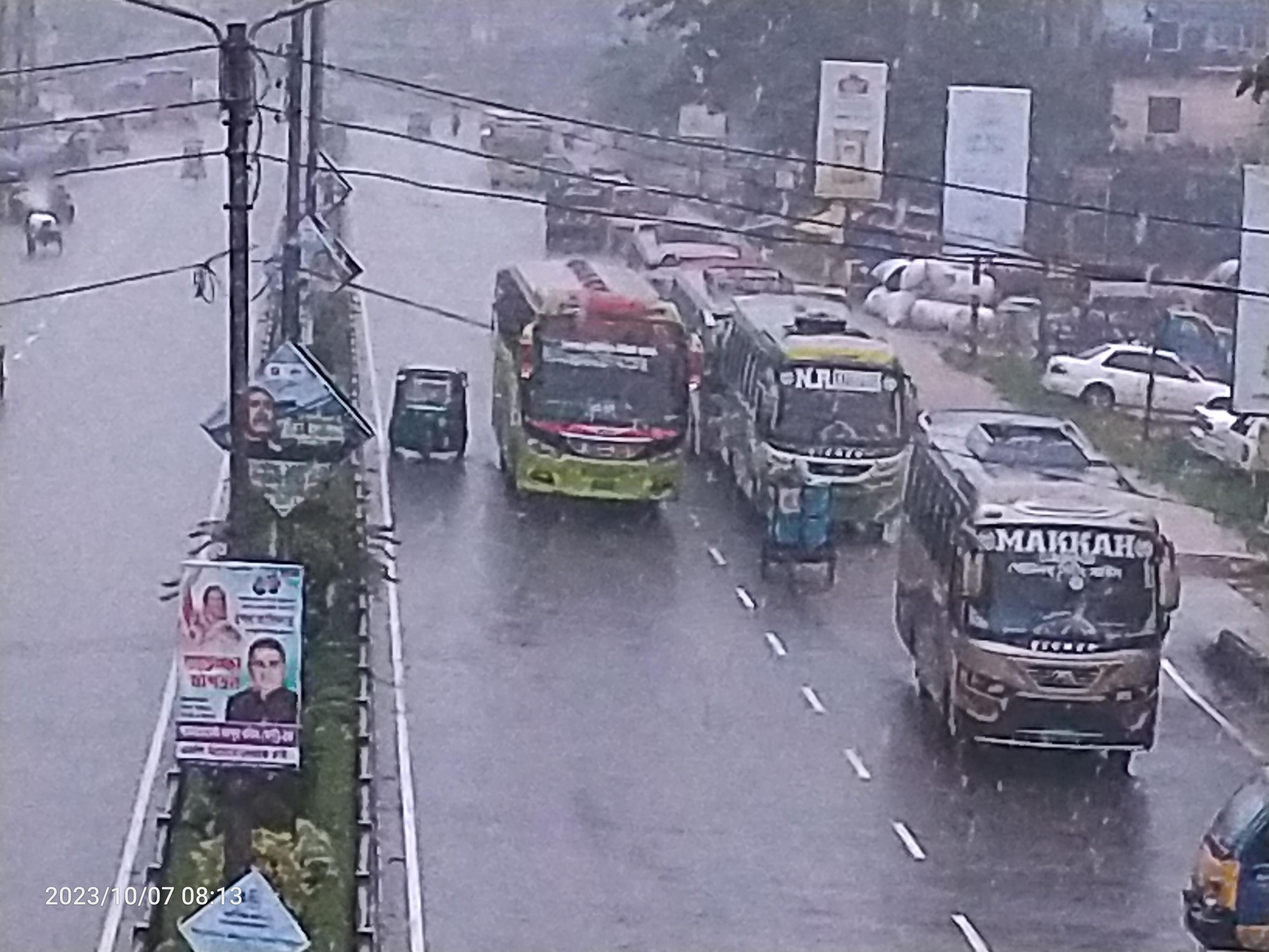Bus: (891, 390, 1184, 787), (471, 235, 694, 553), (713, 281, 910, 559), (671, 263, 731, 479), (474, 98, 571, 202)
Car: (1035, 325, 1240, 441), (1184, 393, 1269, 483), (171, 134, 216, 192)
Truck: (1172, 734, 1269, 952)
